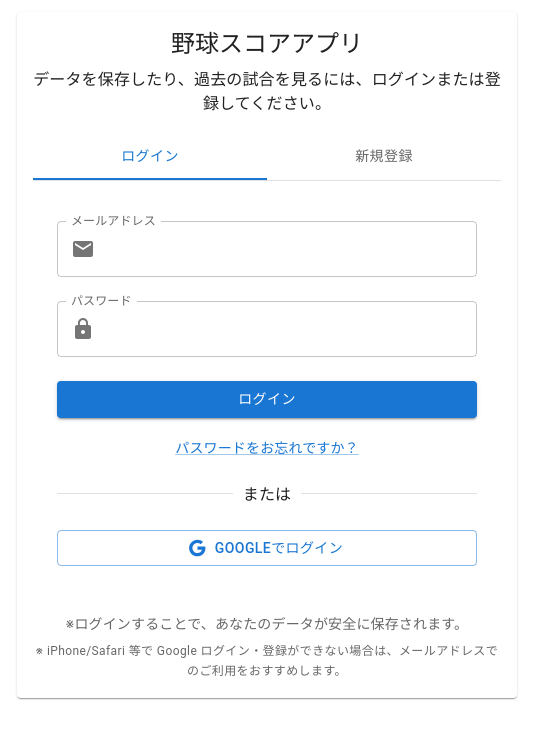
Login component - Google Sign In › 未許可ドメインエラー (auth/unauthorized-domain) の場合に適切なメッセージを表示する
What coordinates should you click on to do the following:
click the button "Googleでログイン"
I would click on:
 (267, 548)
Its box is [57,530,477,566].
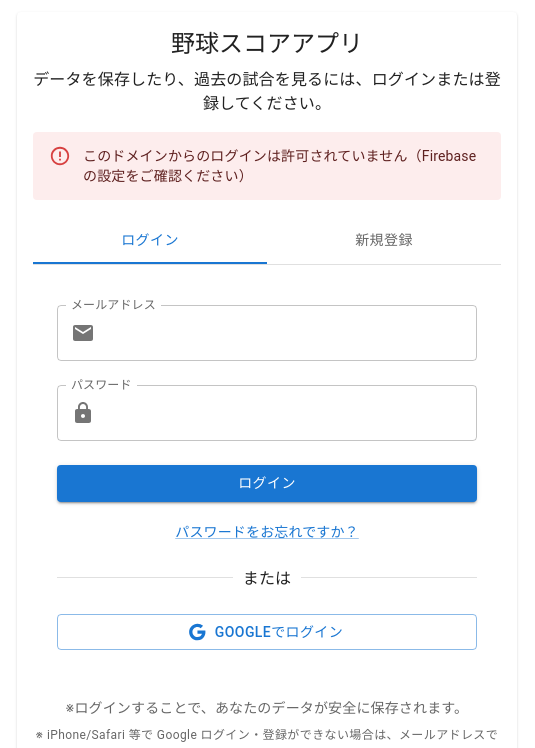
Check: the message reads "このドメインからのログインは許可されていません（Firebaseの設定をご確認ください）", box [83,148,476,184]
